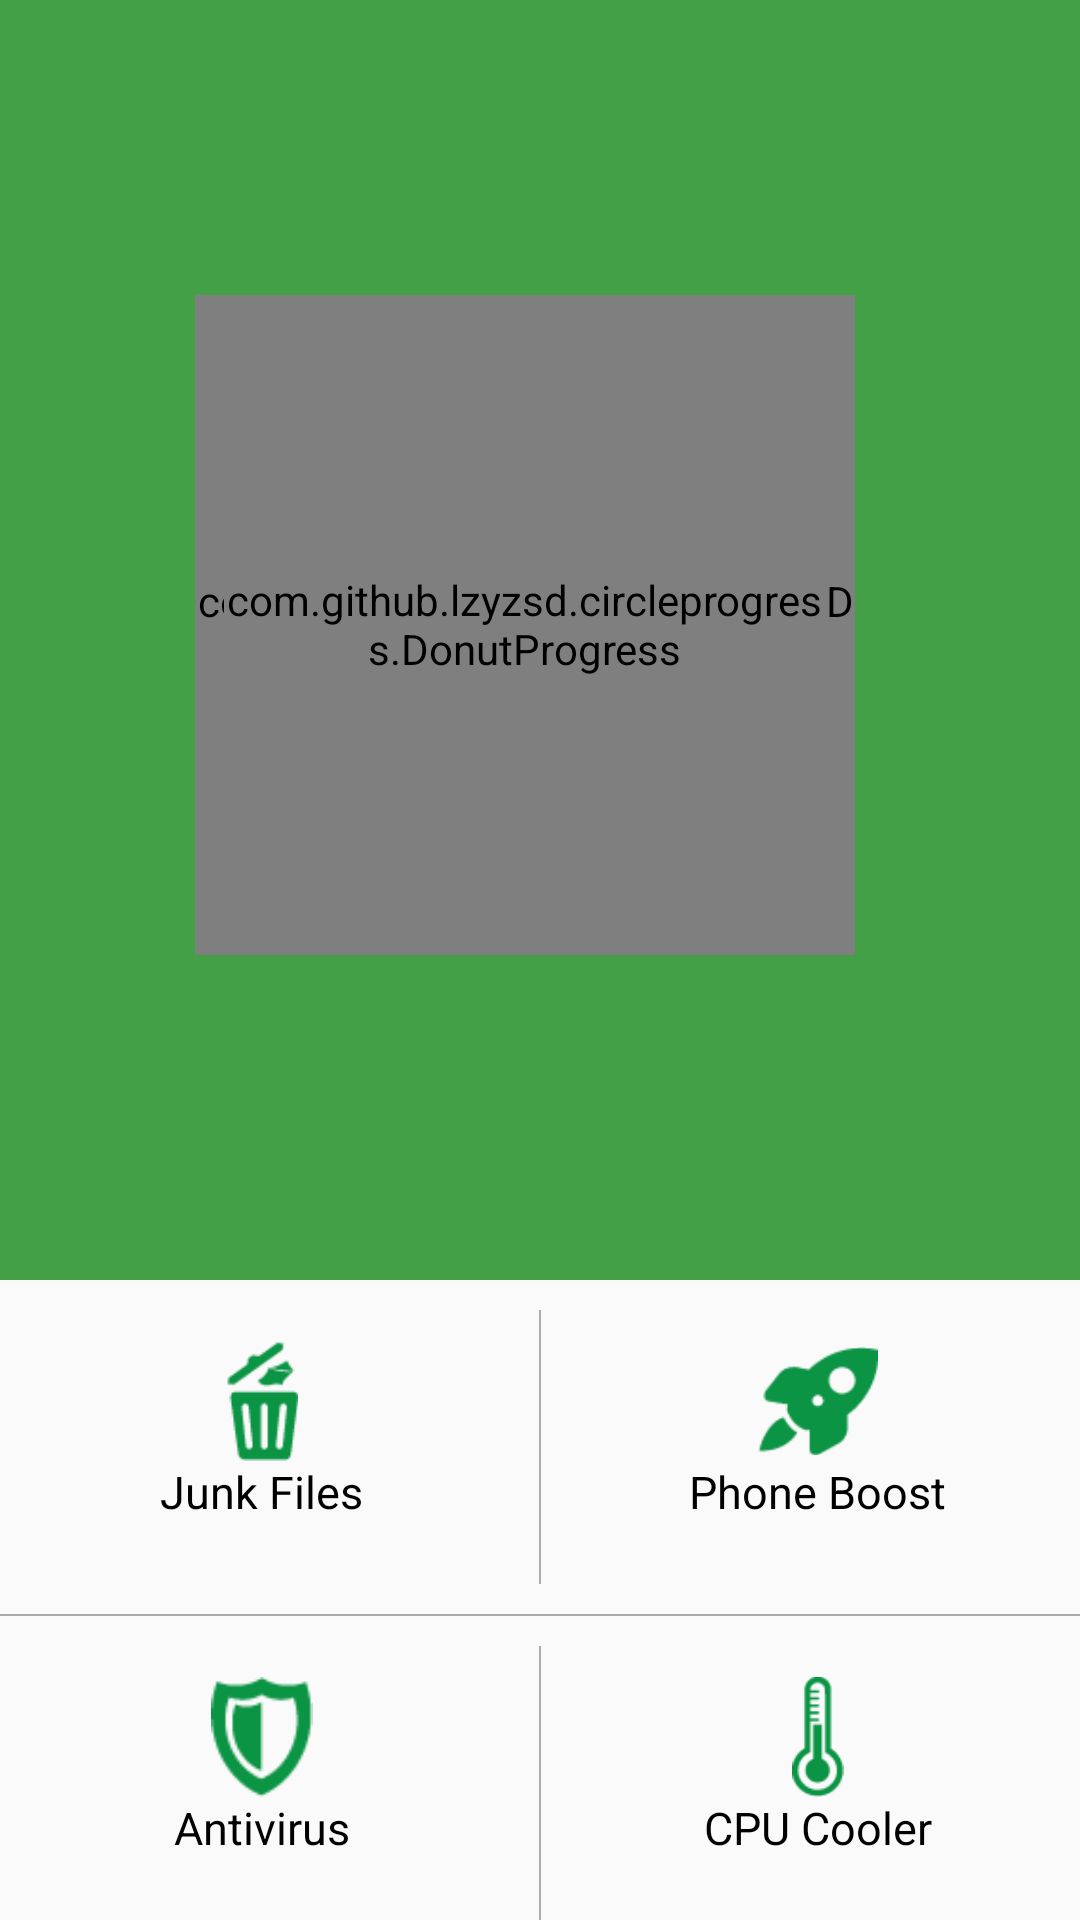

Locate icon controls on the screen. Image size 1080 × 1920, boxes as bbox=[x1, y1, x2, y2].
dustbin: bbox=[227, 1342, 298, 1461]
rocket: bbox=[758, 1347, 878, 1455]
security: bbox=[211, 1677, 313, 1797]
temperature: bbox=[792, 1677, 844, 1797]
